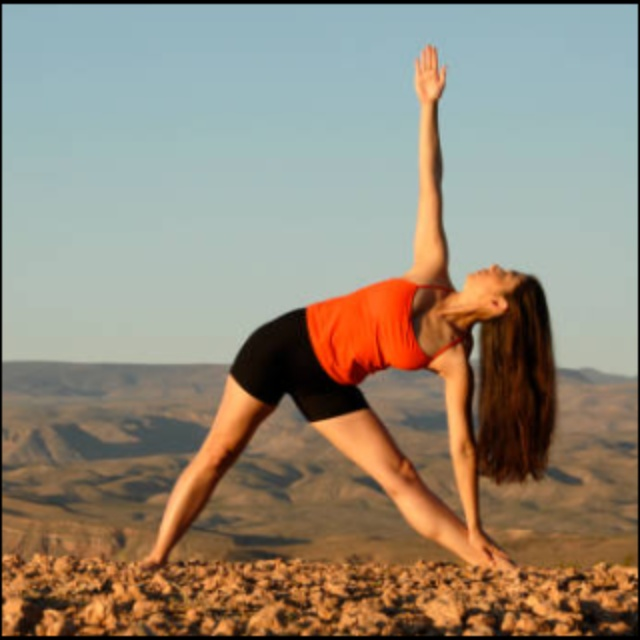Triangle_Pose: (126, 43, 569, 576)
